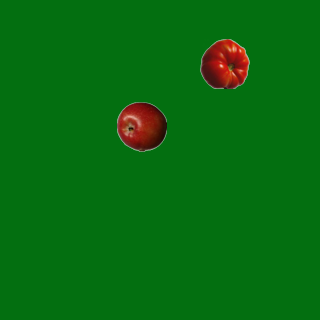Apple Braeburn: (116, 101, 166, 151)
Tomato 3: (199, 38, 249, 88)
